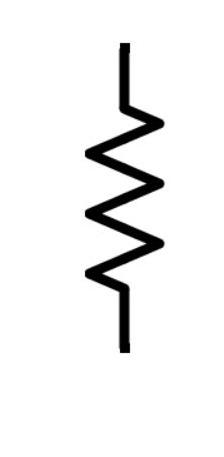resistor: (60, 77, 178, 325)
